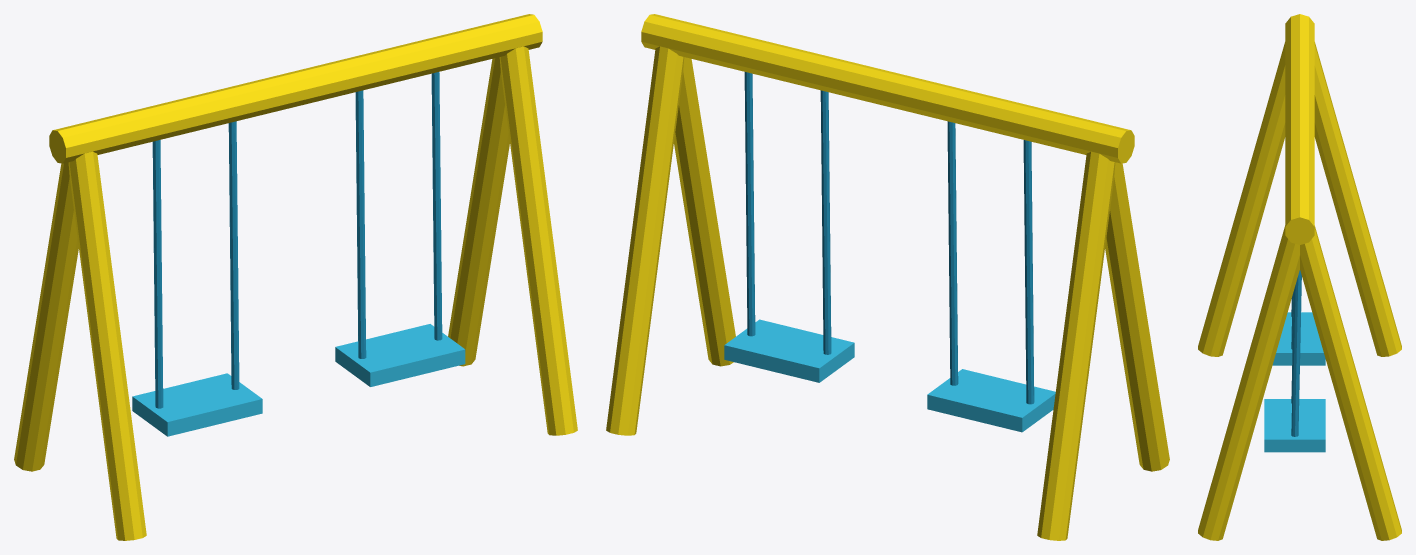
File: Playground_Double_Swing.glb
The picture shows the model from 3 angles, left to right: view 1: azimuth 30°, elevation 25°; view 2: azimuth 150°, elevation 25°; view 3: azimuth 270°, elevation 25°; orthographic projection. The views are drawn at different scales.
Parts seen in each view (by area): view 1: Playground_Double_Swing; view 2: Playground_Double_Swing; view 3: Playground_Double_Swing.
Boxes of the visible parts, x1,y1,x2,y2 form: Playground_Double_Swing: (14,14,577,540); Playground_Double_Swing: (606,14,1169,540); Playground_Double_Swing: (1198,14,1401,540).
Bounding box in the file's own units: 3.76 × 2.84 × 1.59.
